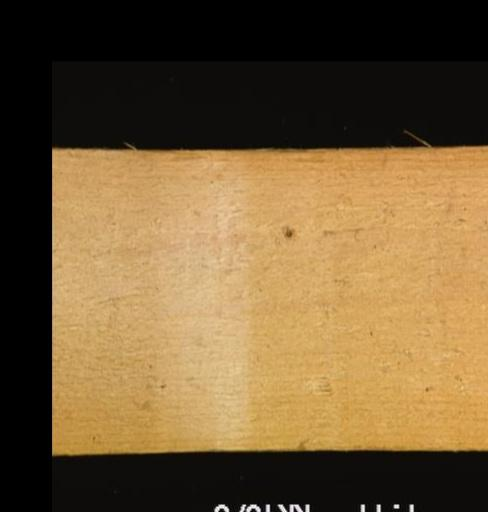small_knot: (280, 224, 295, 243)
